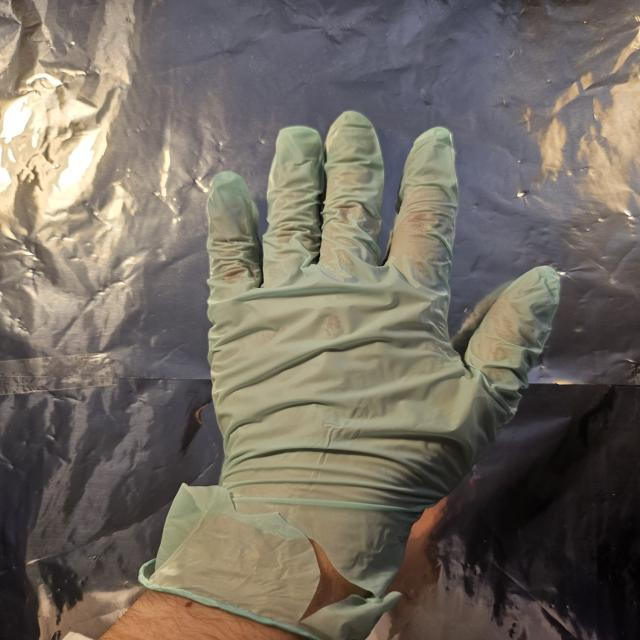gloves_damaged: (136, 109, 564, 640)
